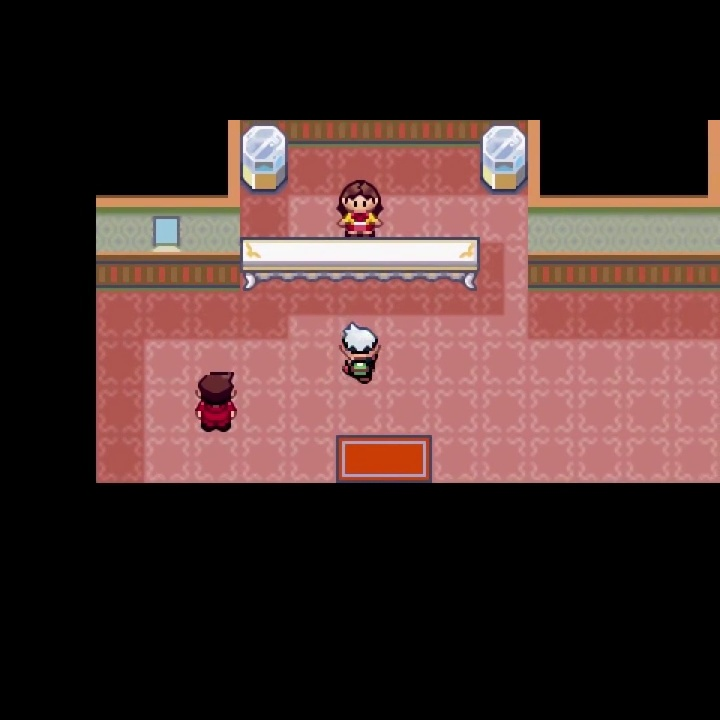exit: (334, 431, 435, 553)
npc: (334, 320, 382, 386), (193, 370, 241, 433), (334, 178, 383, 238)
